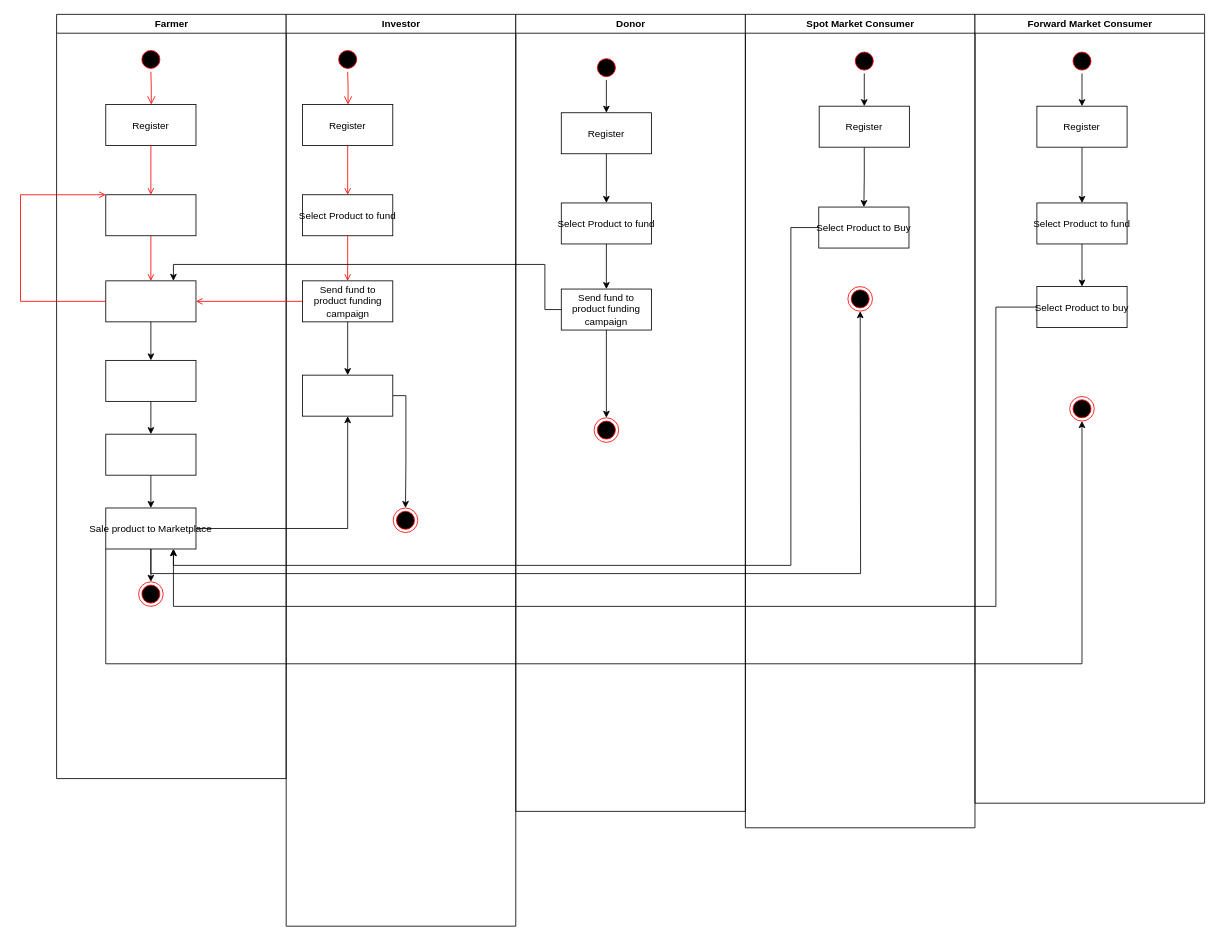
This 1219x941 diagram has some shape labels left out. Here are the shapes that lost their labels. From the top down, the centre of each, then its label:
At (150,215): "Publish Product for crowd funding on market place".
At (150,301): "Wait for Funding to complete".
At (150,380): "Receive pay out from funding".
At (347,395): "Receive payments from market for harvested product".
At (150,454): "Harvest Product".
